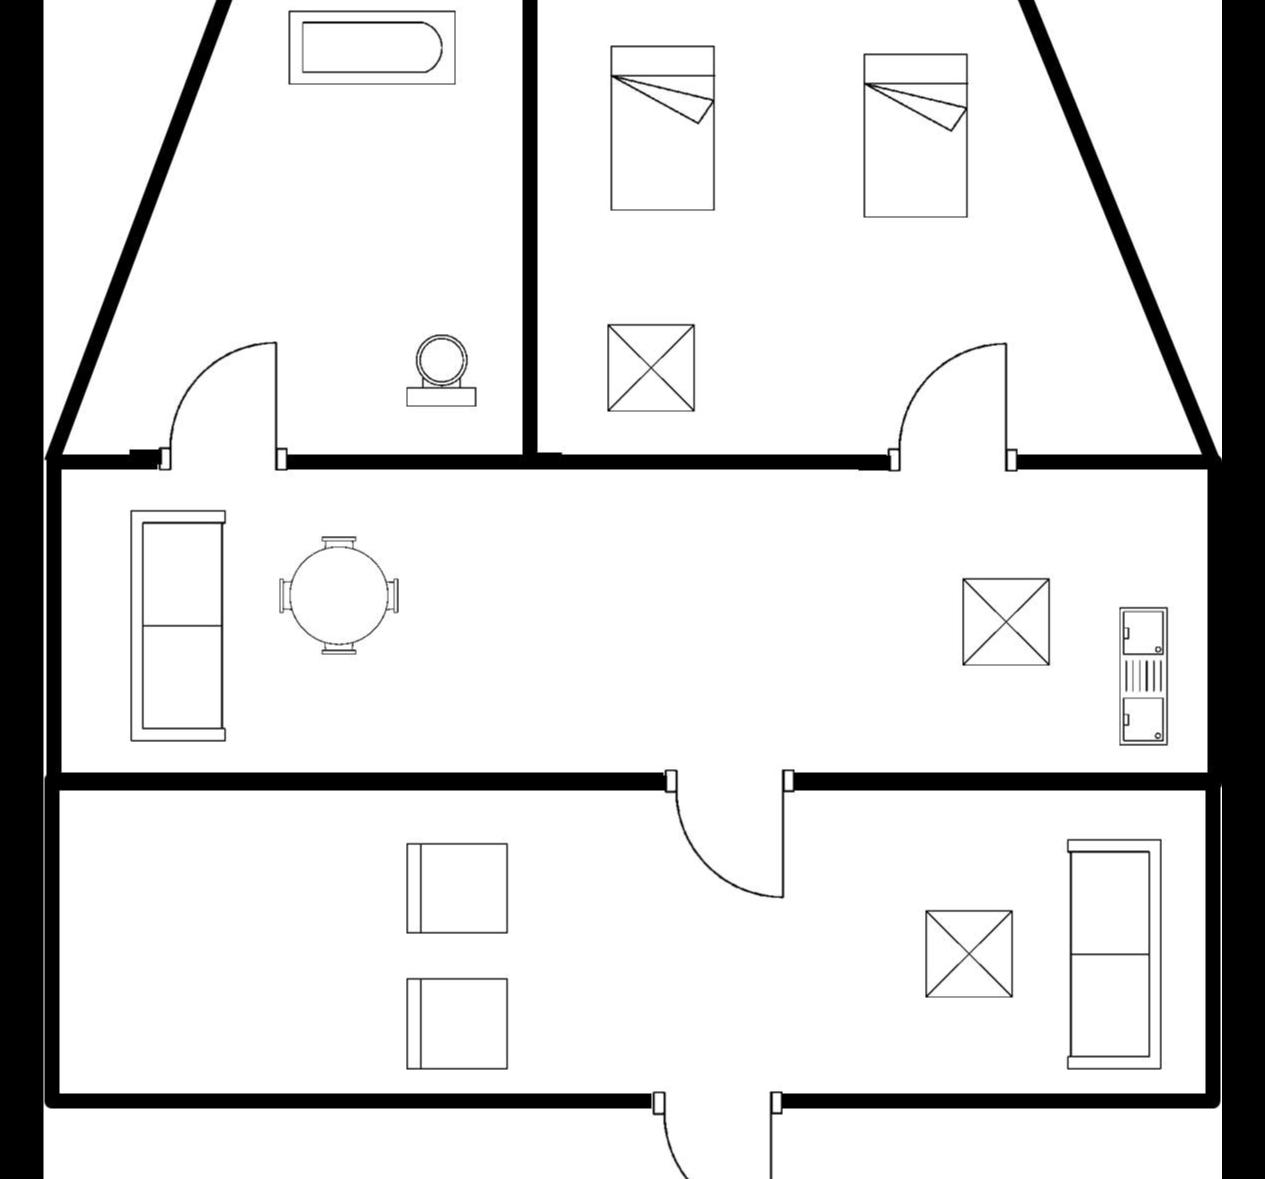sink: (1105, 596, 1179, 752)
